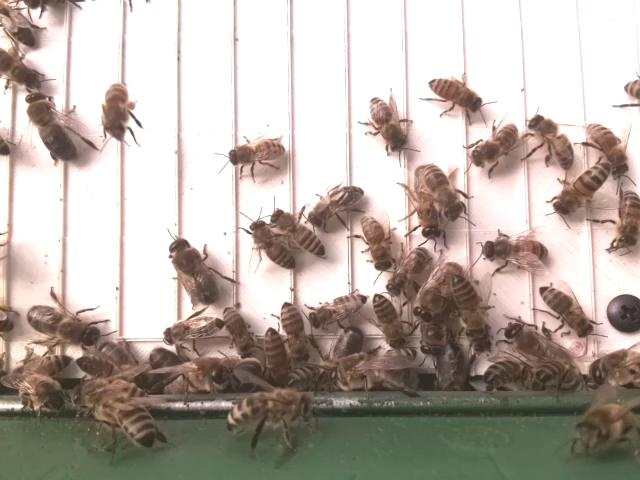Drone: (23, 89, 78, 166), (166, 235, 221, 307), (23, 302, 105, 347), (409, 161, 446, 244)
Worker: (554, 162, 616, 217), (536, 283, 595, 338), (365, 92, 411, 156), (527, 114, 578, 170), (249, 215, 297, 274), (270, 210, 327, 259), (467, 121, 522, 171), (307, 288, 368, 332), (424, 73, 486, 116), (585, 119, 630, 178), (450, 274, 487, 342), (305, 183, 366, 224), (158, 311, 226, 347), (386, 246, 433, 297), (371, 291, 409, 353), (482, 234, 549, 269), (225, 134, 287, 171), (357, 215, 397, 271), (279, 300, 314, 363), (220, 304, 259, 359), (101, 79, 133, 145), (611, 188, 640, 251), (369, 88, 369, 89)
